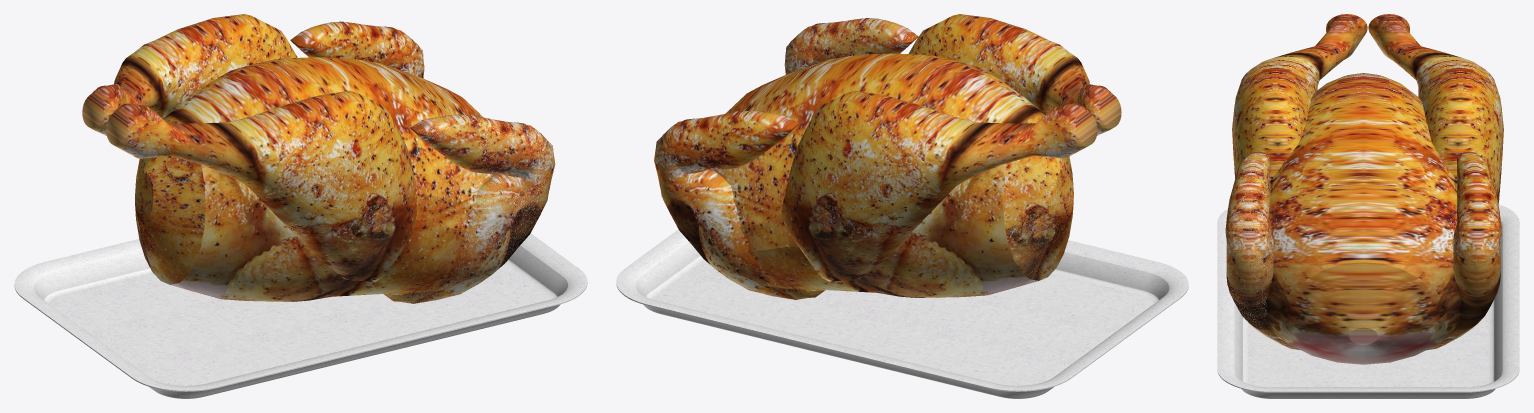
Rendered from model_roosted.dae.
3 renders of one model, left to right at view 1: azimuth 30°, elevation 25°; view 2: azimuth 150°, elevation 25°; view 3: azimuth 270°, elevation 25°, orthographic. The views are drawn at different scales.
Visible parts, largest first — view 1: group_1, Component_1 (×2), group_0, Component_3 (×2); view 2: group_1, Component_1 (×2), group_0, Component_3 (×2); view 3: group_0, group_1, Component_1 (×2), Component_3 (×2).
Part boxes in pixels (x1,y1,x2,y2): group_1: [14, 233, 587, 398]; Component_1 (×2): [82, 14, 417, 281]; group_0: [135, 57, 494, 301]; Component_3 (×2): [290, 21, 555, 303]; group_1: [616, 229, 1188, 398]; Component_1 (×2): [781, 14, 1121, 281]; group_0: [714, 53, 1073, 297]; Component_3 (×2): [654, 18, 918, 299]; group_0: [1266, 73, 1461, 364]; group_1: [1217, 204, 1519, 398]; Component_1 (×2): [1232, 14, 1503, 203]; Component_3 (×2): [1225, 152, 1501, 350].
Size of the model in its own units: 16.79 by 11.16 by 9.06.
3 materials, 3 textured.
